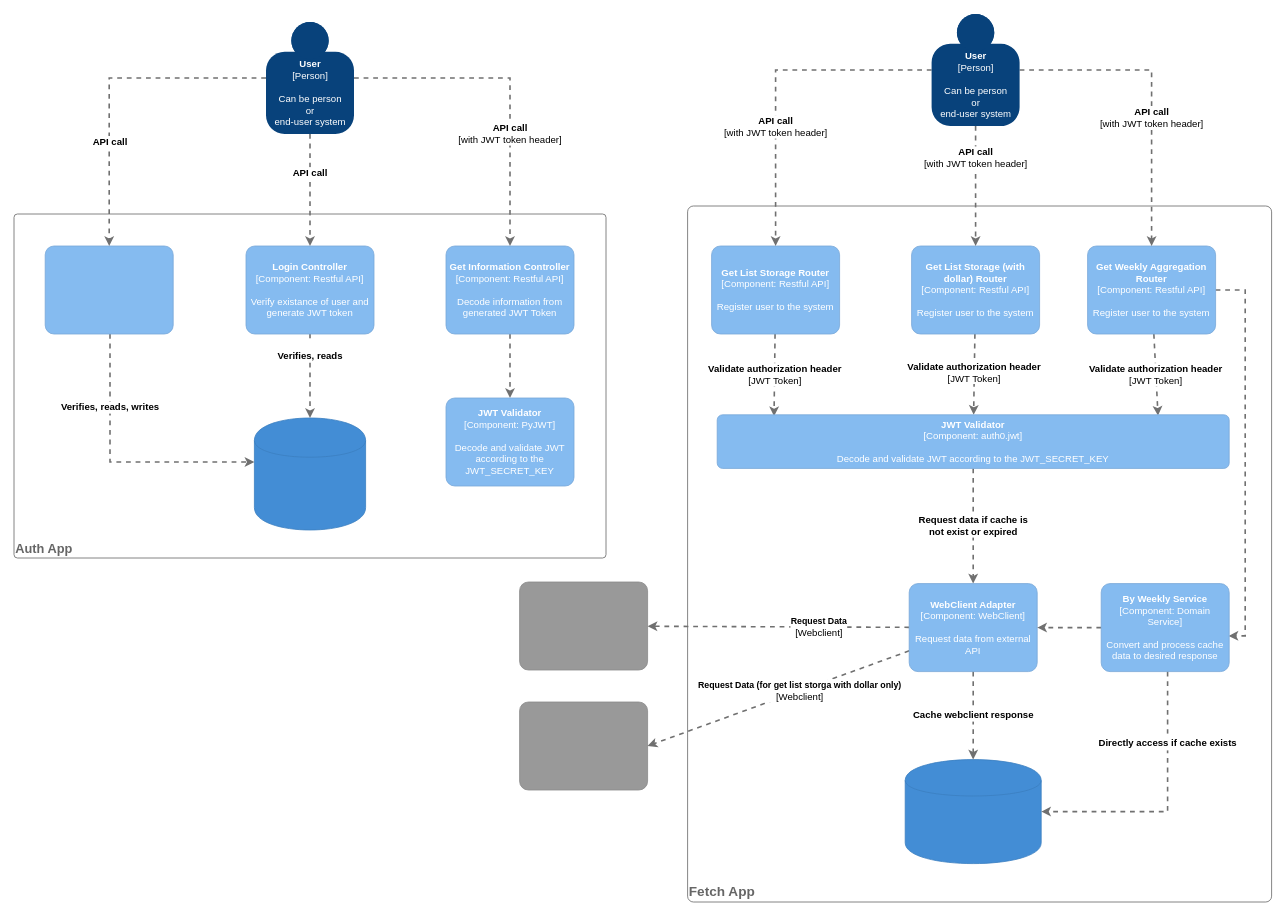
The diagram is 1286 pixels wide and 916 high, and some of its shapes have lost their labels. The centre of each missing label's shape, as x and y in pixels:
"Database [Container: Internal cache] Storage API and Freecurency.API data cache" belongs at point (972, 811).
"Database [Container: SQLite] User Database" belongs at point (310, 473).
"eFishary storages web API [Software System] API that provides storages data" belongs at point (583, 625).
"Freecurrency.com API [Software System] Provides recent IDR to USD convertion" belongs at point (583, 745).
"Register Controller [Component: Restful API] Register user to the system" belongs at point (108, 289).
